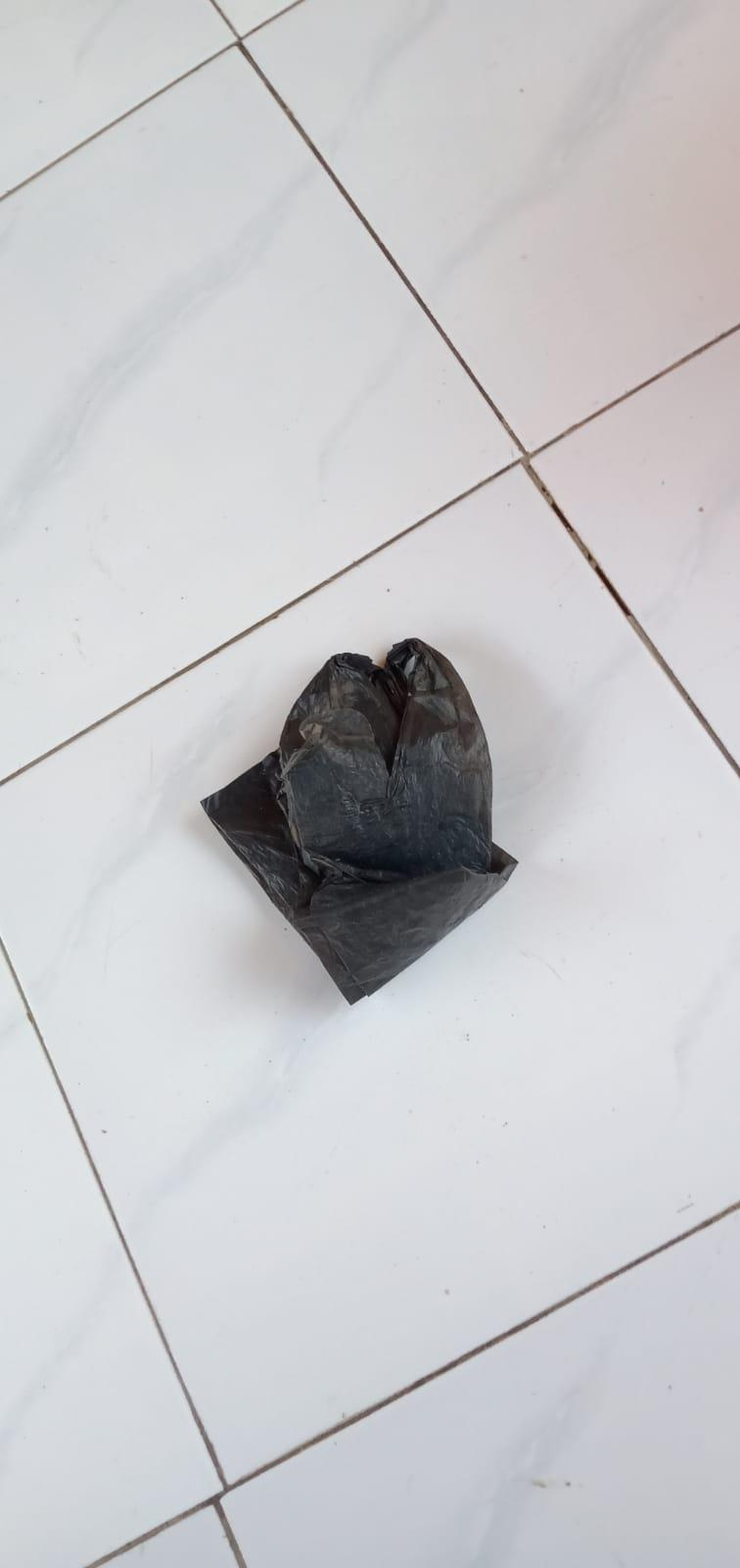Plastik: (197, 636, 521, 1007)
